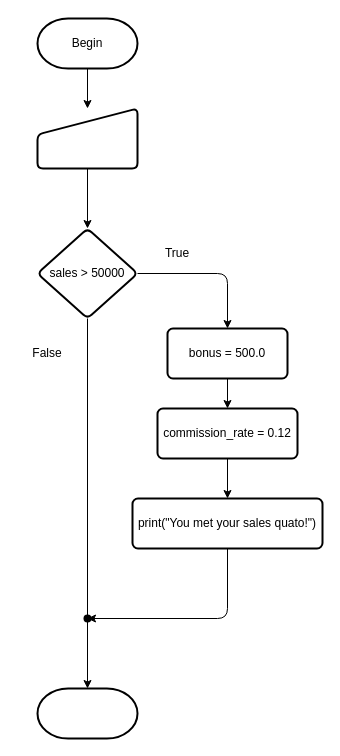
Image size: 340x756. Some labels were removed from this diagram. The shapes that lost their labels are listed below. From the top down, each one's centre as x and y in pixels, then its label:
(87,138): sales
(87,713): End
